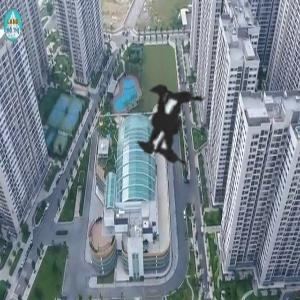drone: (38, 7, 287, 256)
